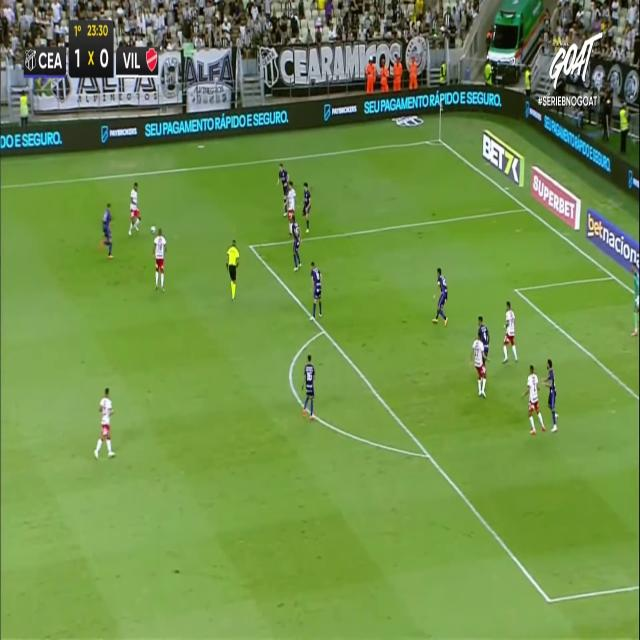player: (93, 387, 116, 460), (522, 364, 545, 434), (542, 358, 560, 435), (472, 332, 488, 397), (502, 300, 517, 363), (432, 266, 448, 325), (152, 227, 166, 291), (478, 314, 492, 377), (275, 161, 291, 214), (302, 354, 315, 418), (100, 201, 114, 258), (285, 174, 297, 236), (310, 260, 322, 320), (129, 181, 141, 236), (290, 215, 301, 270), (300, 181, 311, 235)
referee: (226, 238, 239, 300)
